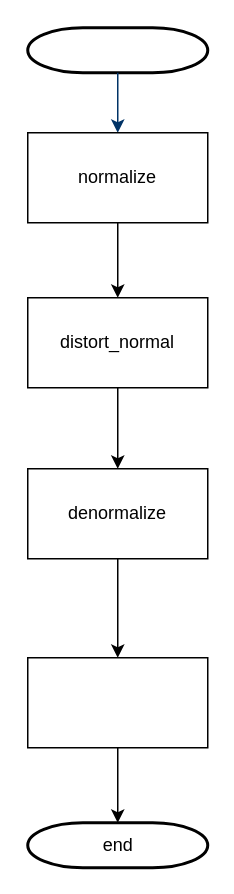
Image size: 234x894. Some labels were removed from this diagram. The shapes that lost their labels are listed below. From the top down, each one's centre as x and y in pixels, then its label:
At (117,50): "start".
At (117,702): "create_image".
